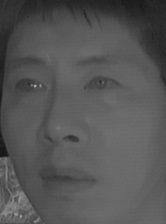eye: (83, 70, 122, 98), (12, 73, 48, 99)
mouth: (34, 160, 97, 199)
